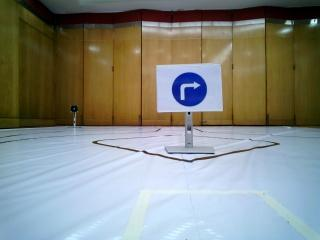right: (163, 67, 216, 105)
